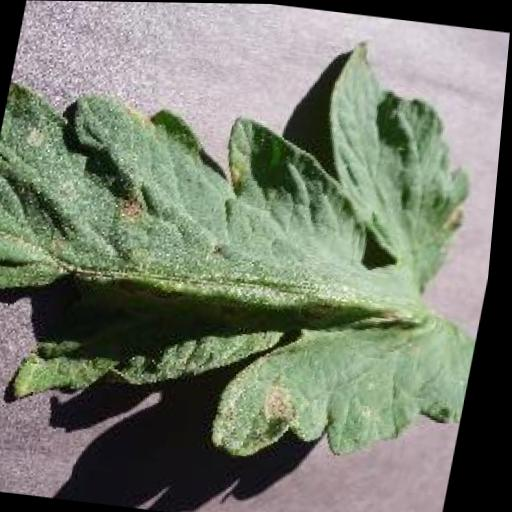Early Blight: (0, 2, 512, 479)
